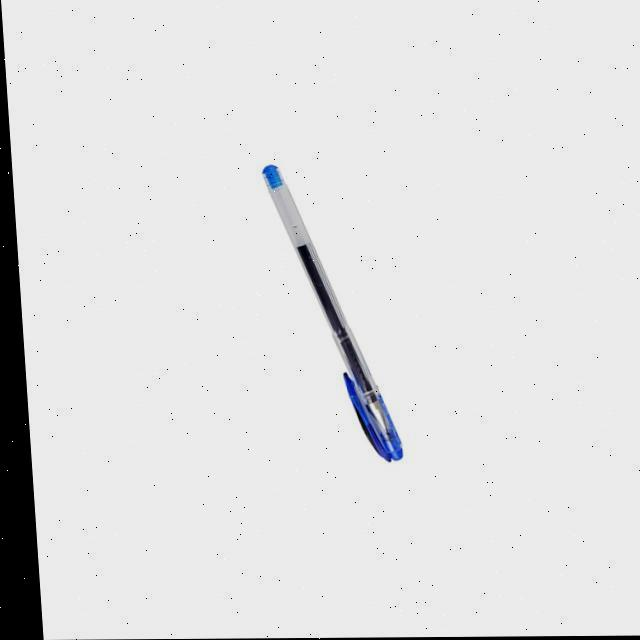pen: (256, 162, 399, 464)
